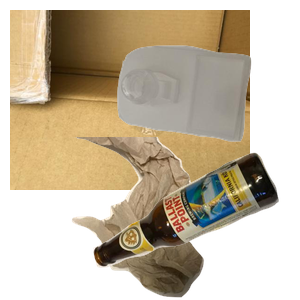cardboard: (10, 10, 250, 190)
glass: (91, 150, 300, 300)
plastic: (115, 43, 300, 177)
trash: (66, 137, 263, 300)
